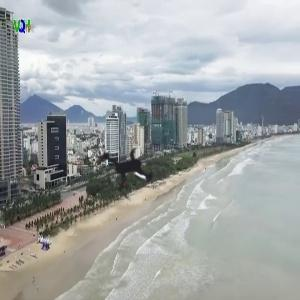drone: (71, 116, 182, 227)
